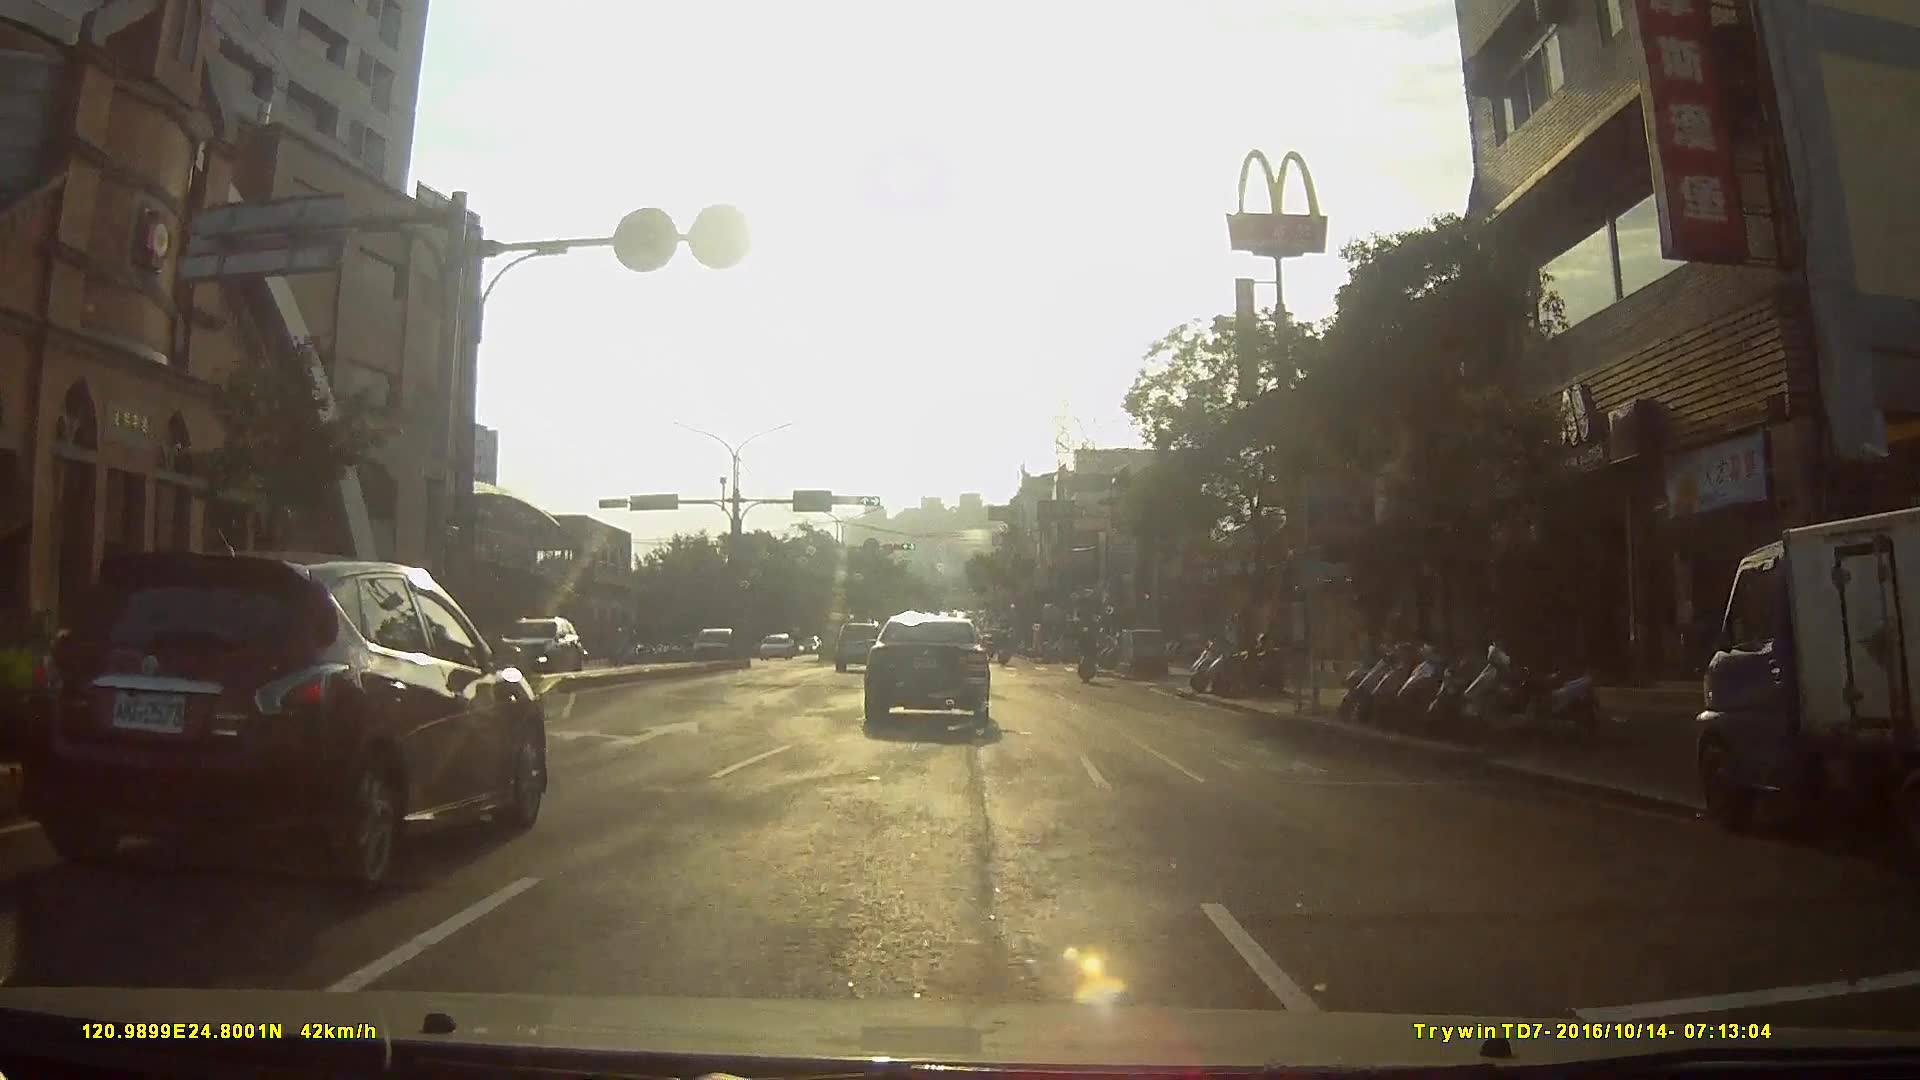rider: (1073, 624, 1099, 687)
vehicle: (23, 544, 556, 898), (1686, 508, 1920, 849), (854, 611, 997, 736), (477, 612, 580, 680), (829, 619, 886, 674), (681, 626, 741, 667), (756, 632, 795, 664)
